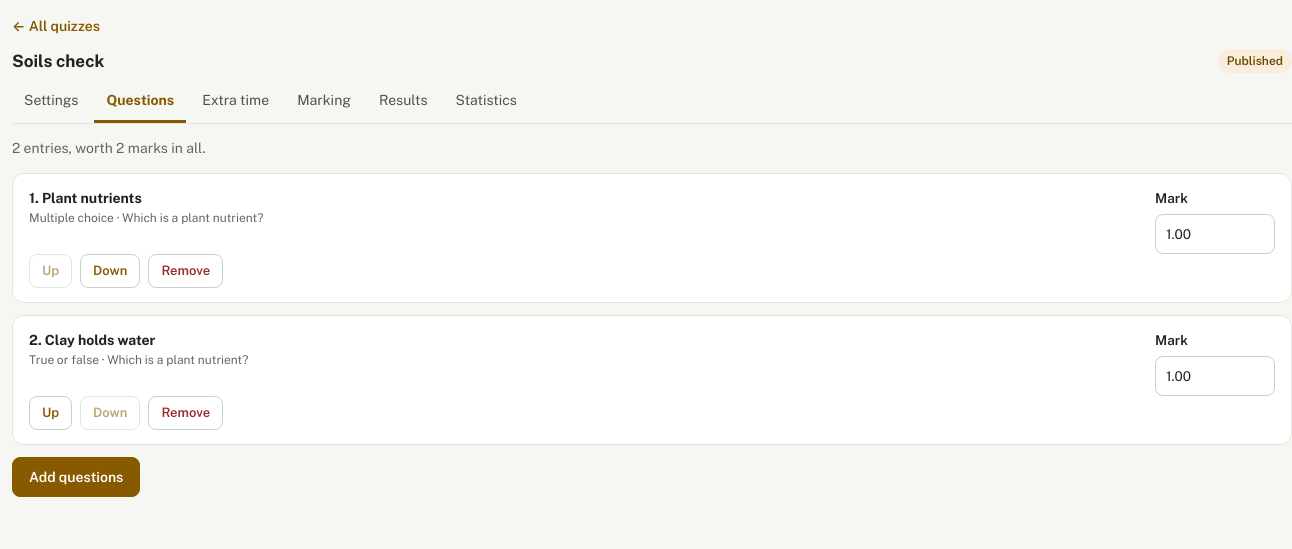
Test case: a quiz's questions (item 3.02) › moves, re-marks and removes entries, and shows the refusal once students have started
Click the button with aria-label "Move up: Clay holds water" at (51, 413), box [29,396,72,430]
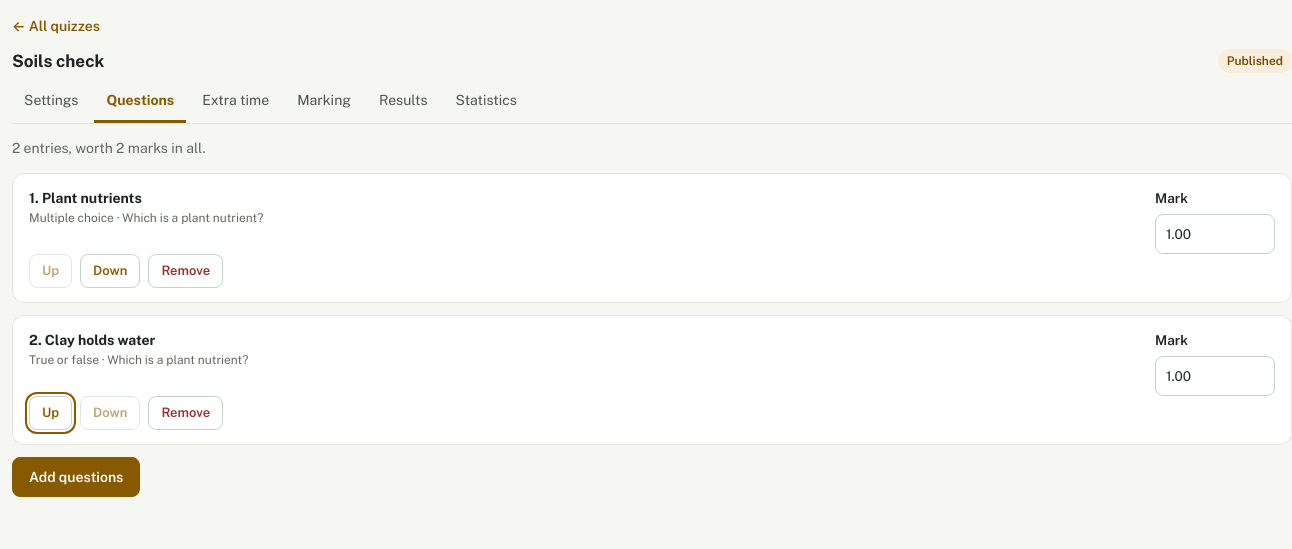
Replace the text in the 1st number field labelled "Mark" with "2" at (1215, 234), box [1155,214,1275,254]
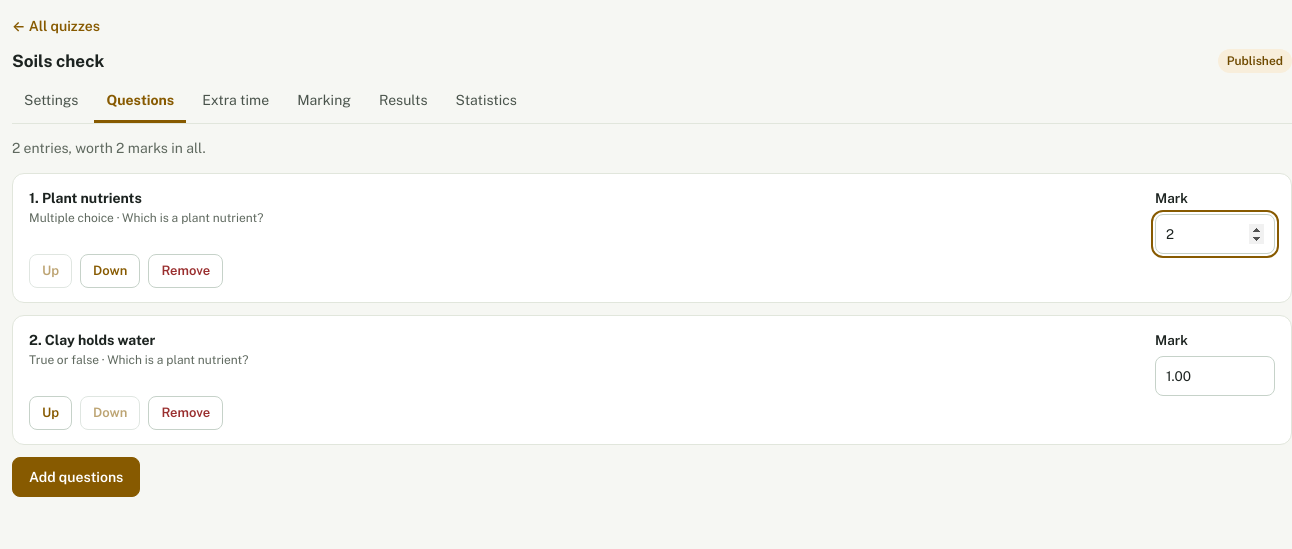
Press Tab
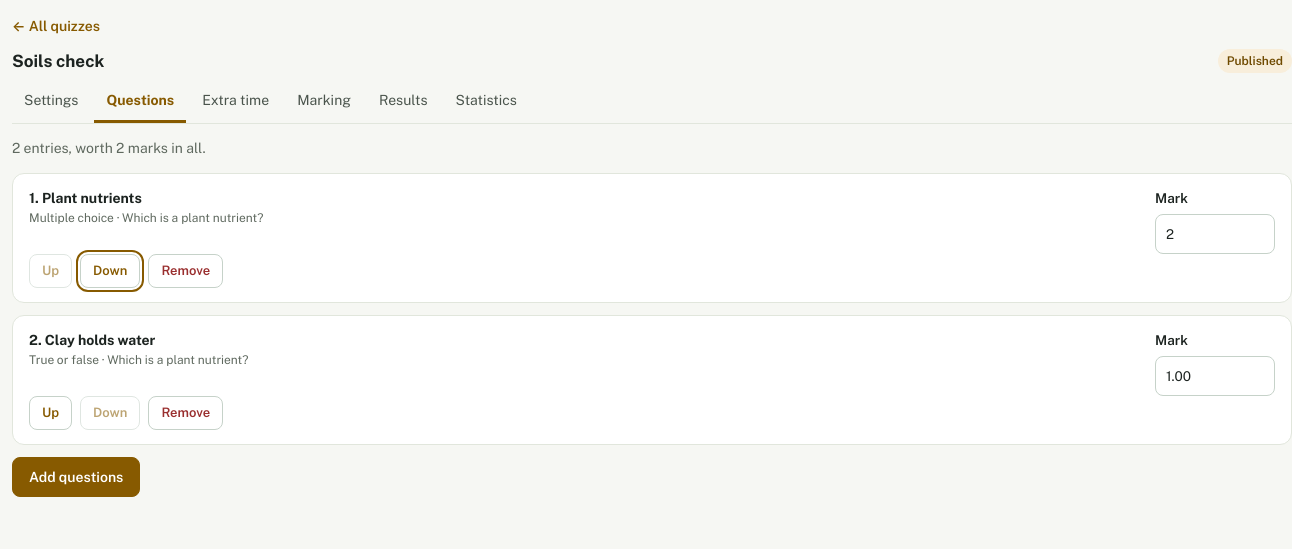
Click the button with aria-label "Remove: Plant nutrients" at (186, 271), box [148,254,223,288]
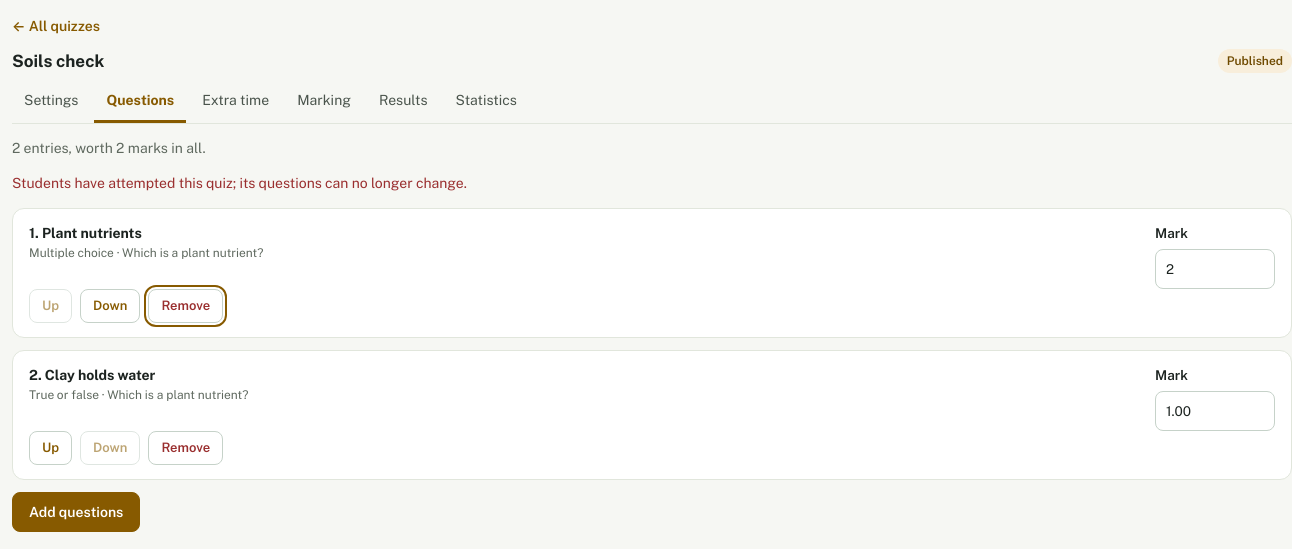
Now the message shows "Students have attempted this quiz", box [12,174,467,190]
